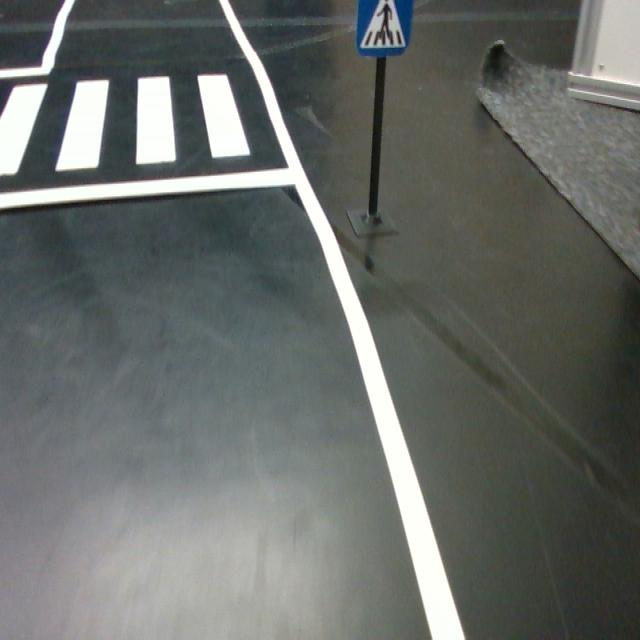crosswalk-sign: (356, 0, 414, 57)
